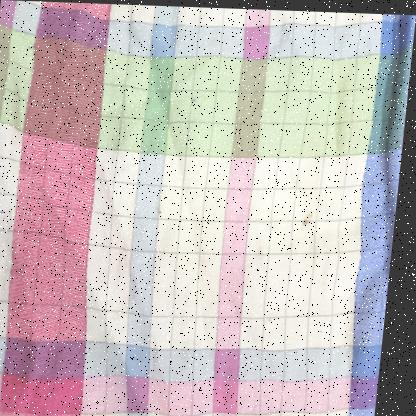spot: (302, 207, 322, 232), (157, 200, 169, 214), (1, 208, 12, 218), (323, 323, 332, 335), (27, 44, 38, 53), (300, 347, 308, 357), (272, 315, 281, 323), (59, 99, 68, 107), (192, 95, 199, 103), (123, 164, 129, 173), (142, 121, 148, 129), (5, 216, 12, 222)
